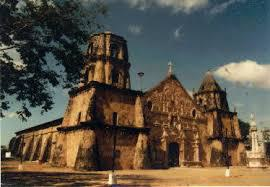miagao_church_miagao_iloilo: (59, 24, 249, 169)
